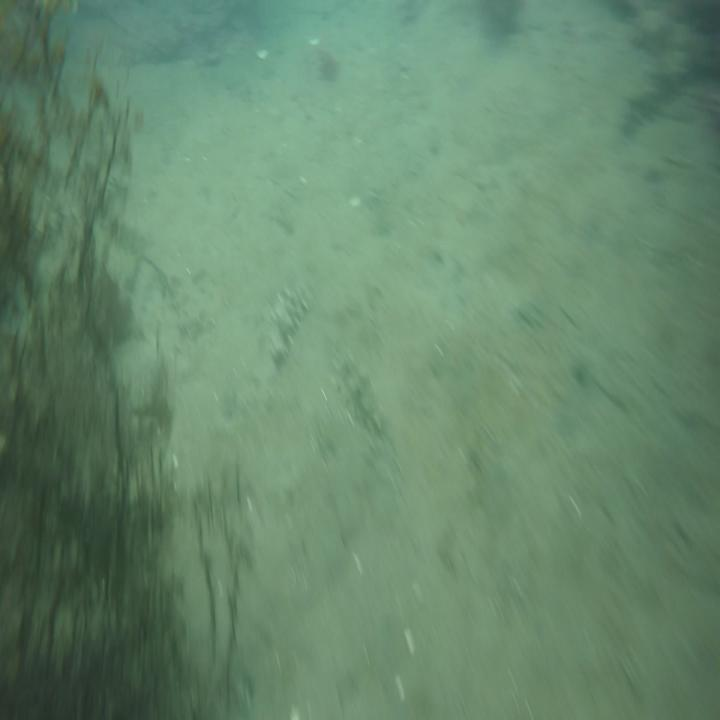holothurian: (327, 347, 383, 434), (266, 272, 312, 358)
